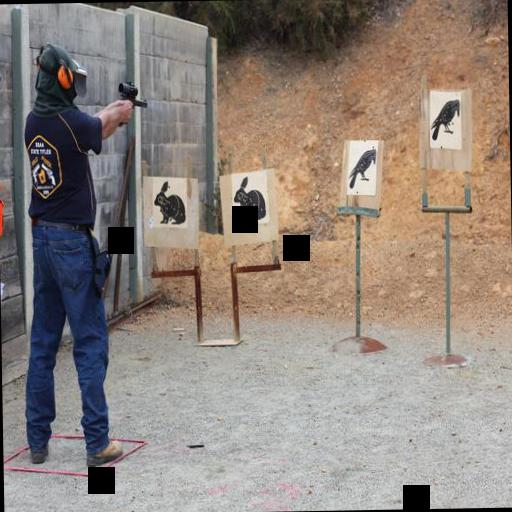Handgun: (112, 76, 147, 124)
